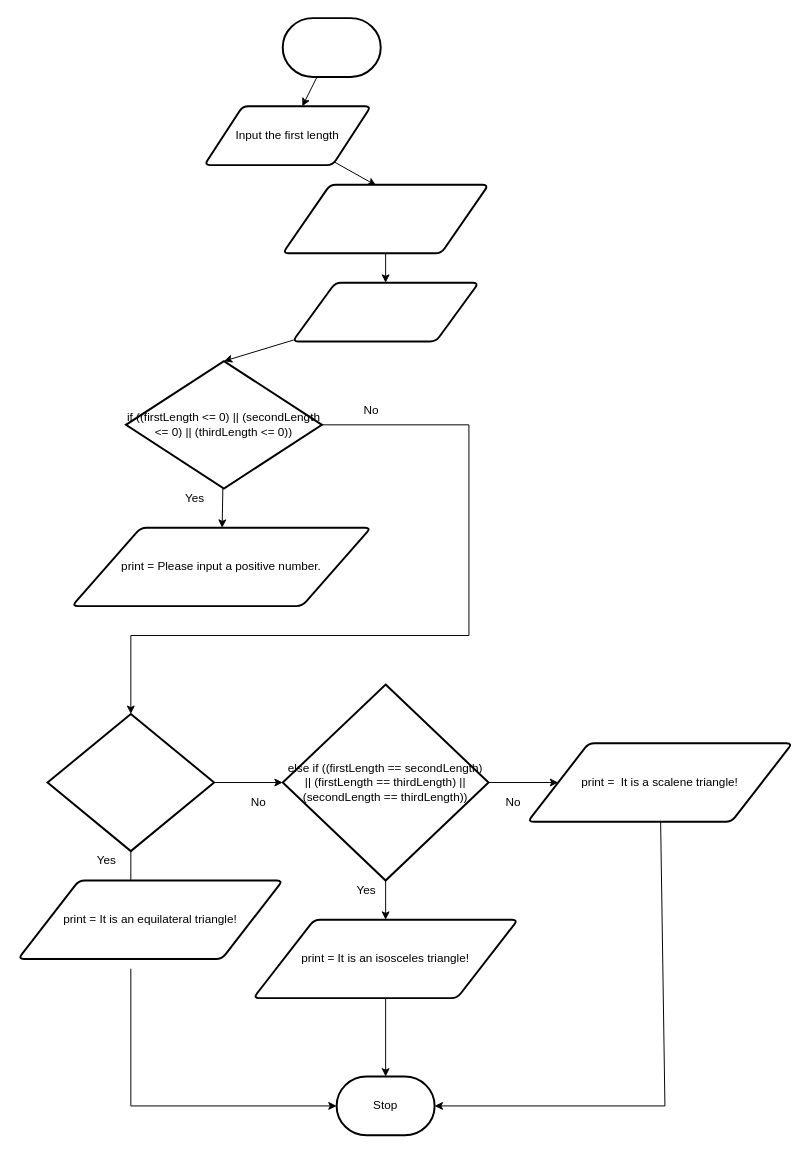
This 809x1152 diagram has some shape labels left out. Each missing label, with the centre of its shape:
"if ((firstLength == secondLength) && (secondLength == thirdLength))" goes at point 130,782.
"Input the second length" goes at point 385,218.
"Input the third length" goes at point 385,311.
"Start" goes at point 331,47.
